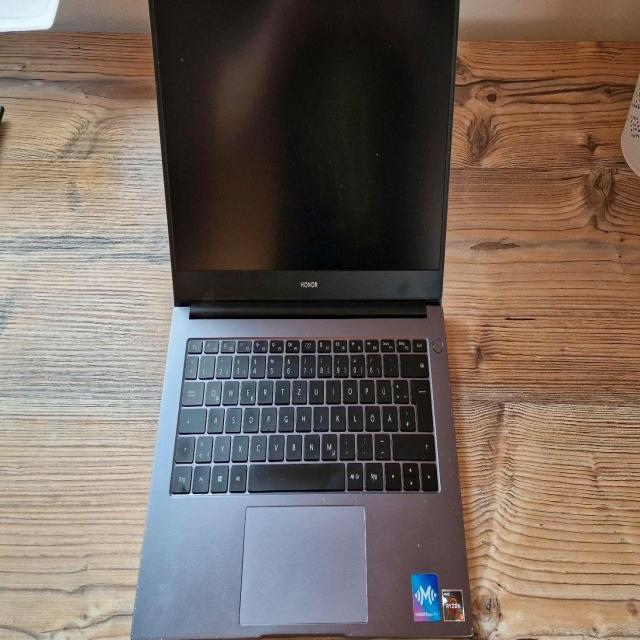0: (349, 352, 365, 376)
1: (197, 352, 213, 376)
2: (214, 352, 230, 376)
3: (232, 352, 248, 376)
4: (249, 352, 265, 376)
5: (266, 353, 282, 377)
6: (283, 353, 299, 377)
7: (299, 352, 315, 376)
8: (316, 352, 331, 376)
9: (332, 352, 348, 376)
a: (207, 404, 223, 430)
accent: (383, 351, 398, 375)
ae: (381, 403, 397, 429)
alt-left: (228, 461, 246, 491)
altgr-right: (346, 460, 363, 488)
b: (285, 431, 301, 458)
c: (249, 431, 265, 459)
caret: (184, 353, 197, 377)
comma: (338, 431, 354, 458)
d: (242, 403, 258, 430)
del: (399, 351, 427, 375)
e: (239, 378, 255, 402)
enter: (409, 376, 433, 430)
f: (259, 403, 275, 430)
g: (277, 404, 293, 430)
h: (295, 403, 311, 429)
hash: (399, 403, 415, 429)
i: (324, 377, 340, 401)
j: (312, 403, 328, 429)
k: (329, 402, 345, 428)
keyboard: (167, 329, 443, 501)
l: (347, 402, 363, 428)
less: (194, 432, 212, 460)
m: (321, 430, 337, 458)
minus: (373, 431, 389, 457)
n: (302, 431, 319, 458)
o: (341, 376, 357, 401)
oe: (364, 403, 380, 429)
p: (358, 376, 374, 401)
plus: (392, 376, 408, 401)
point: (356, 431, 372, 457)
q: (203, 378, 220, 403)
r: (256, 377, 272, 402)
s: (224, 403, 240, 430)
shift-left: (174, 434, 194, 461)
shift-lock: (177, 405, 205, 431)
shift-right: (391, 431, 434, 458)
space: (247, 460, 345, 490)
ss: (365, 352, 381, 376)
strg-left: (171, 463, 191, 491)
strg-right: (365, 462, 382, 490)
t: (273, 377, 289, 401)
tab: (181, 379, 203, 404)
u: (307, 377, 323, 402)
ue: (375, 376, 391, 401)
v: (267, 431, 283, 458)
w: (221, 378, 237, 402)
x: (230, 431, 247, 458)
y: (212, 432, 229, 460)
z: (290, 377, 306, 402)
